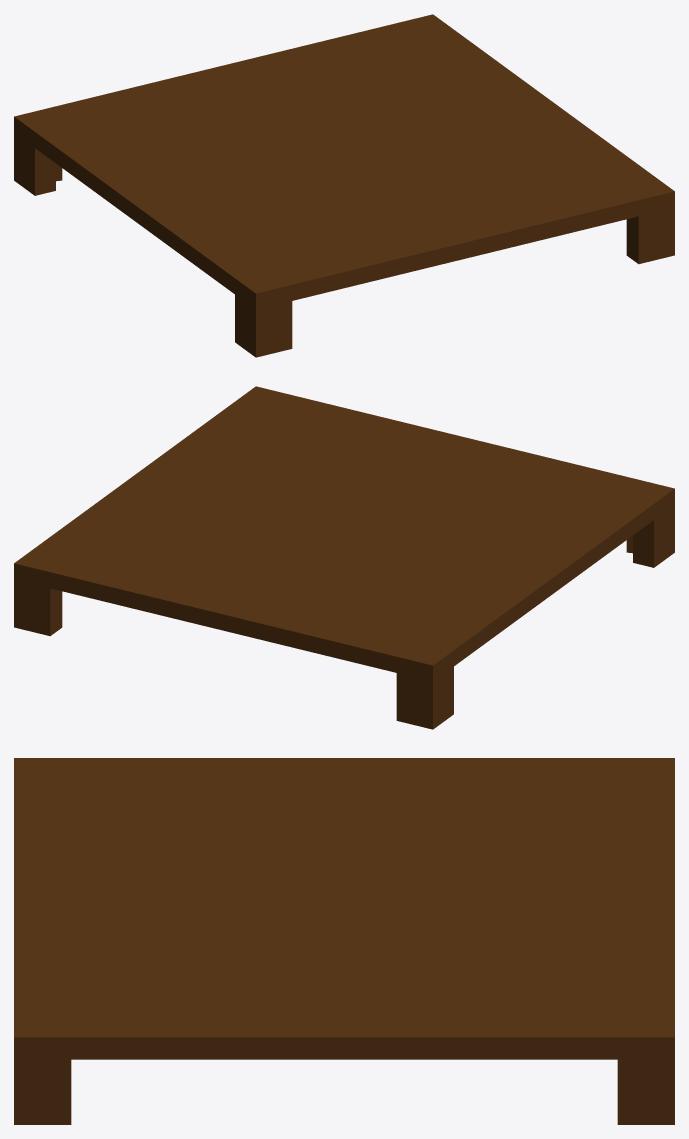
Rendered from sanctuary_platform.glb.
3 renders of one model, top to bottom at view 1: azimuth 30°, elevation 25°; view 2: azimuth 150°, elevation 25°; view 3: azimuth 270°, elevation 25°, orthographic. The views are drawn at different scales.
Visible parts, largest first — view 1: Cube; view 2: Cube; view 3: Cube.
Part boxes in pixels (box(x1,y1,x2,y2)): Cube: box(14, 14, 674, 357); Cube: box(14, 386, 674, 729); Cube: box(14, 758, 674, 1124).
Bounding box in the file's own units: 20 × 2.92 × 20.
